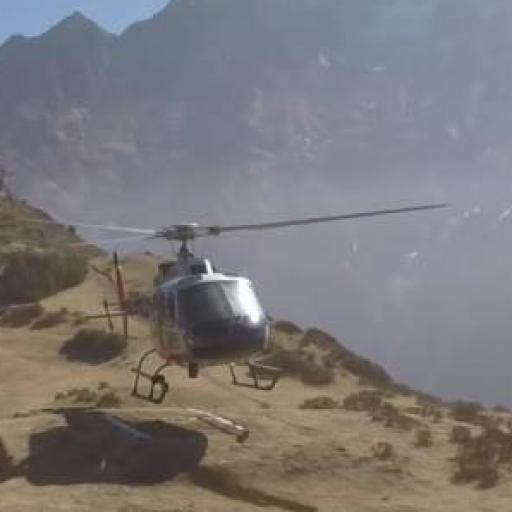helicopter: (25, 200, 451, 403)
